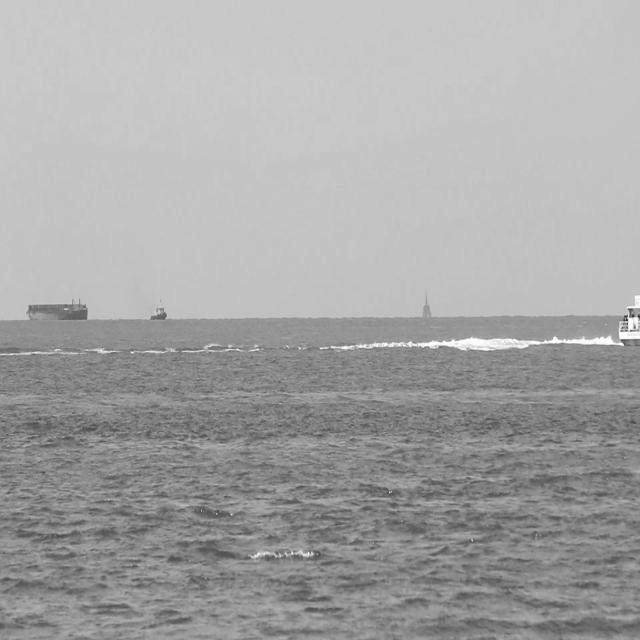ship: (616, 234, 640, 352), (24, 294, 90, 324), (148, 294, 170, 323)
